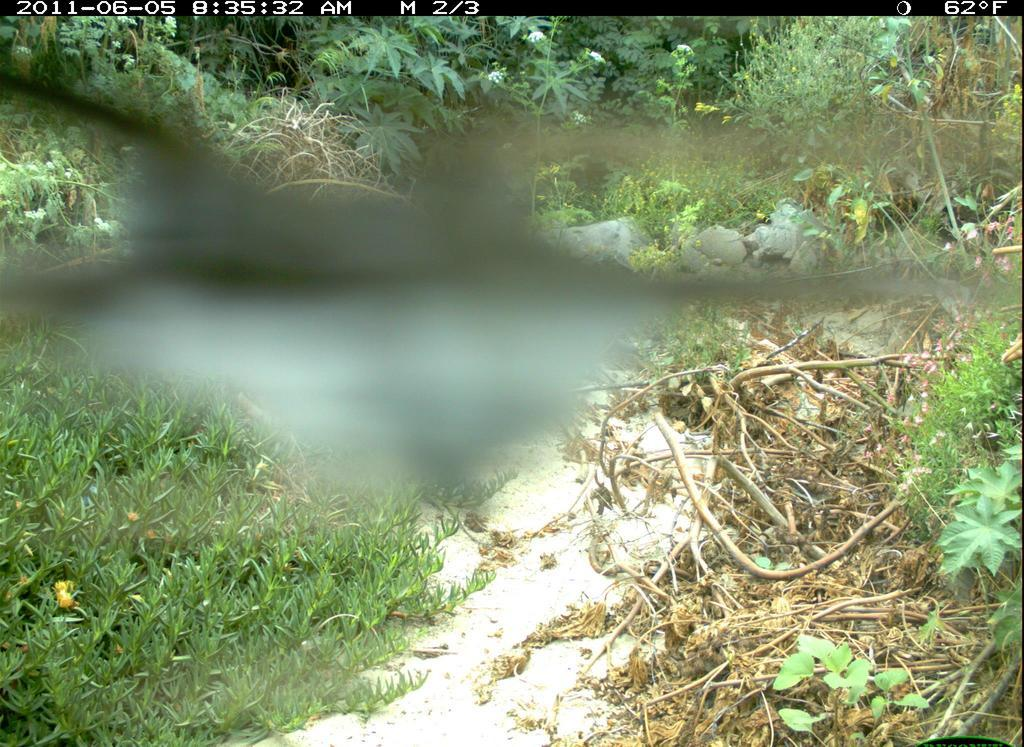bird: (2, 65, 1015, 497)
